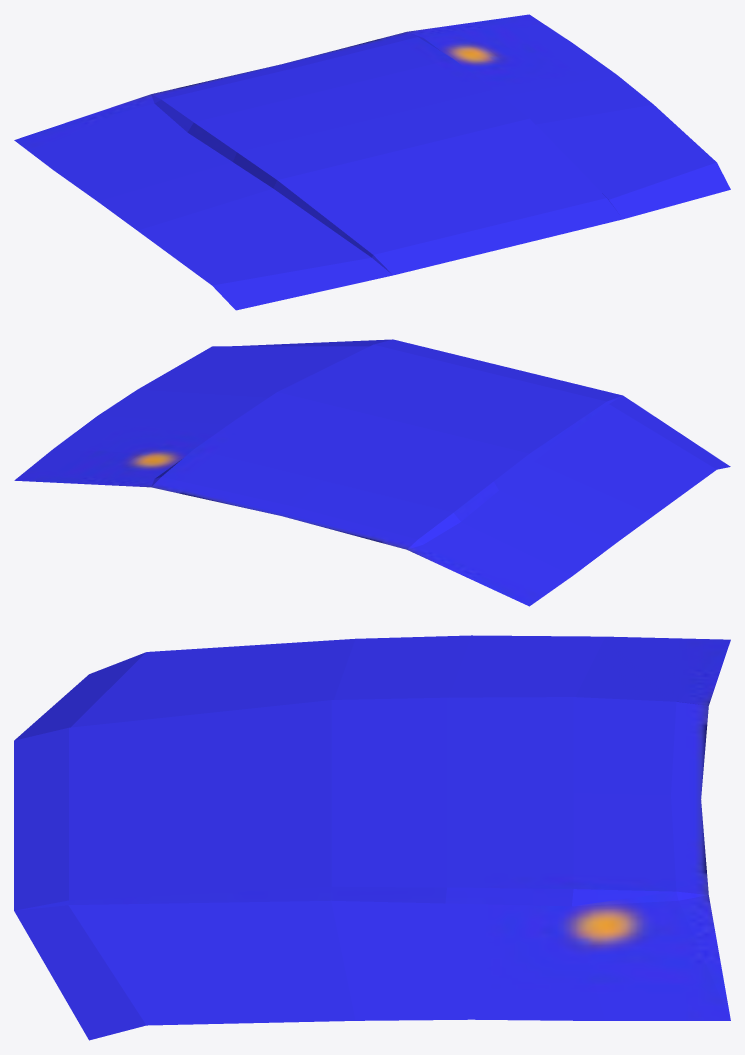
The model's file is hood2.obj.
The picture shows the model from 3 angles, top to bottom: view 1: azimuth 30°, elevation 25°; view 2: azimuth 150°, elevation 25°; view 3: azimuth 270°, elevation 25°; orthographic projection. The views are drawn at different scales.
Visible parts, largest first — view 1: hood; view 2: hood; view 3: hood.
Boxes of the visible parts, x1=… form: hood: x1=14, y1=14, x2=730, y2=310; hood: x1=14, y1=339, x2=730, y2=606; hood: x1=14, y1=635, x2=730, y2=1040.
Bounding box in the file's own units: 1.09 × 0.0859 × 0.8614.
